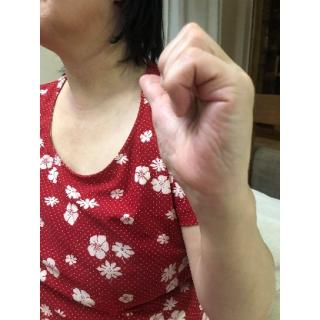WAW: (132, 18, 262, 210)
